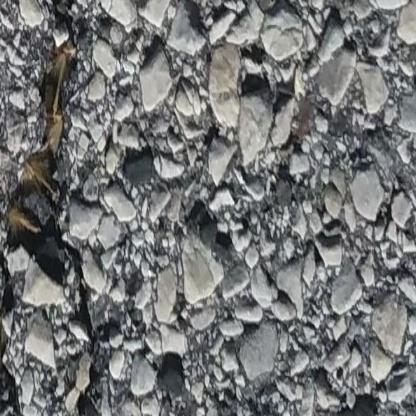Cracks: (0, 0, 100, 416), (73, 377, 96, 416)
